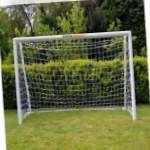goals: (11, 30, 141, 127)
